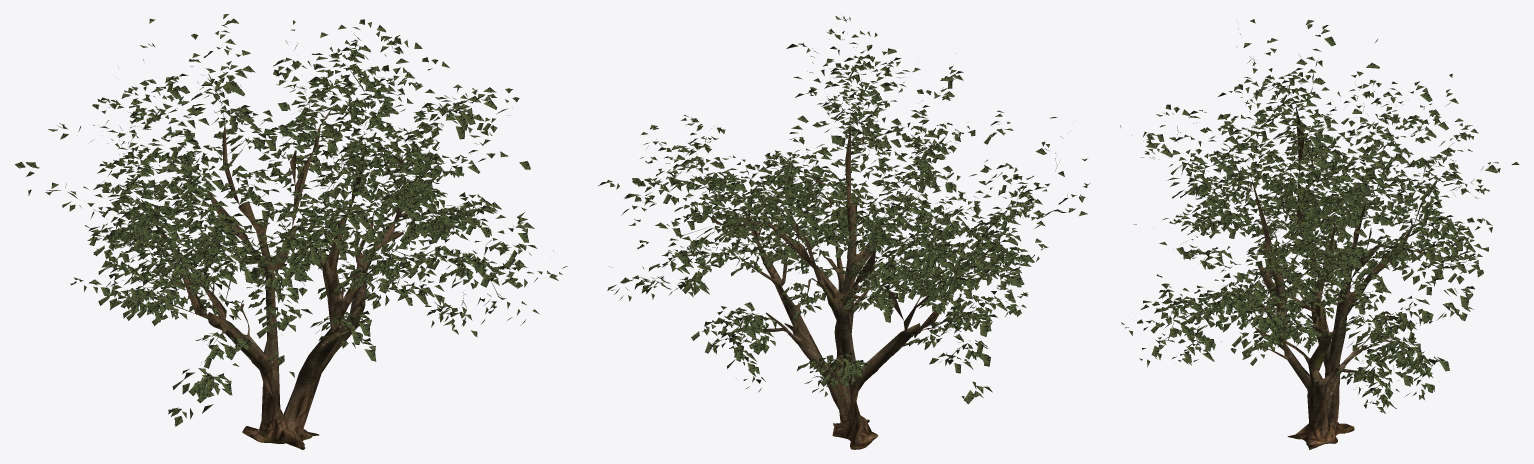
File: jacaranda_tree_lod1.glb
3 views of the same model, side by side, from view 1: azimuth 30°, elevation 25°; view 2: azimuth 150°, elevation 25°; view 3: azimuth 270°, elevation 25° (orthographic). The views are drawn at different scales.
Visible parts, largest first — view 1: jacaranda_tree_LOD0; view 2: jacaranda_tree_LOD0; view 3: jacaranda_tree_LOD0.
Part boxes in pixels (x1=…): jacaranda_tree_LOD0: x1=15, y1=14, x2=567, y2=449; jacaranda_tree_LOD0: x1=598, y1=16, x2=1089, y2=449; jacaranda_tree_LOD0: x1=1120, y1=19, x2=1519, y2=449.
Bounding box in the file's own units: 23.1 × 18.94 × 18.09.
Materials: 3 (3 with a texture image).
